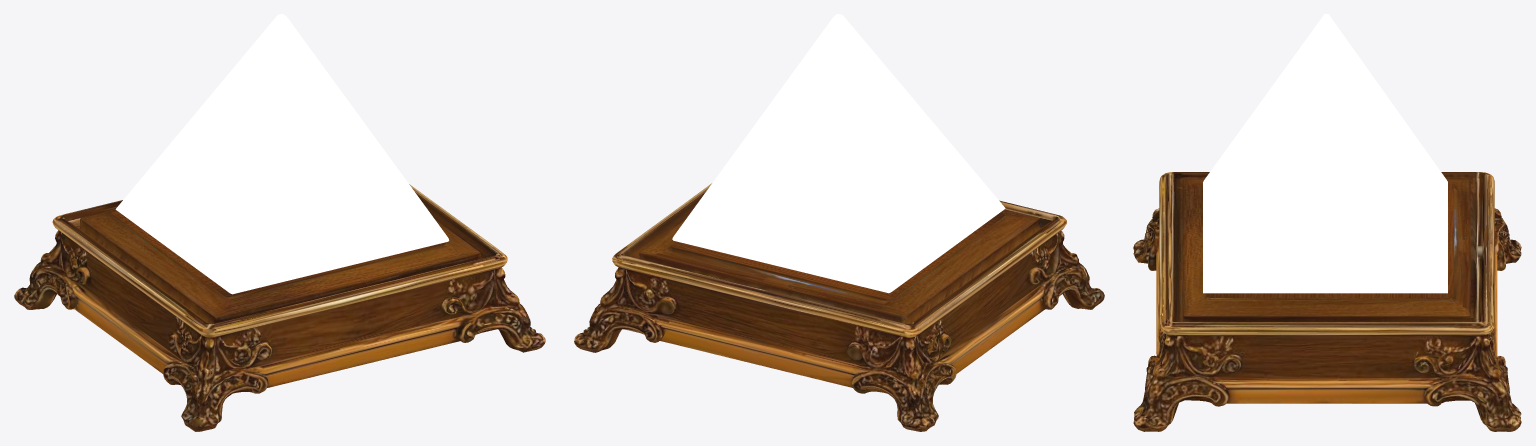
File: prism_animated_4.glb
The picture shows the model from 3 angles, left to right: view 1: azimuth 30°, elevation 25°; view 2: azimuth 150°, elevation 25°; view 3: azimuth 270°, elevation 25°; orthographic projection. The views are drawn at different scales.
Parts seen in each view (by area): view 1: body, rotation_part.001; view 2: body, rotation_part.001; view 3: body, rotation_part.001.
Part boxes in pixels (bbox=[...]): body: bbox=[14, 184, 545, 431]; rotation_part.001: bbox=[115, 14, 449, 294]; body: bbox=[574, 183, 1104, 431]; rotation_part.001: bbox=[672, 14, 1005, 293]; body: bbox=[1133, 172, 1521, 431]; rotation_part.001: bbox=[1203, 14, 1447, 293].
Bounding box in the file's own units: 0.363 × 0.3038 × 0.3252.
Materials: 3 (2 with a texture image).
